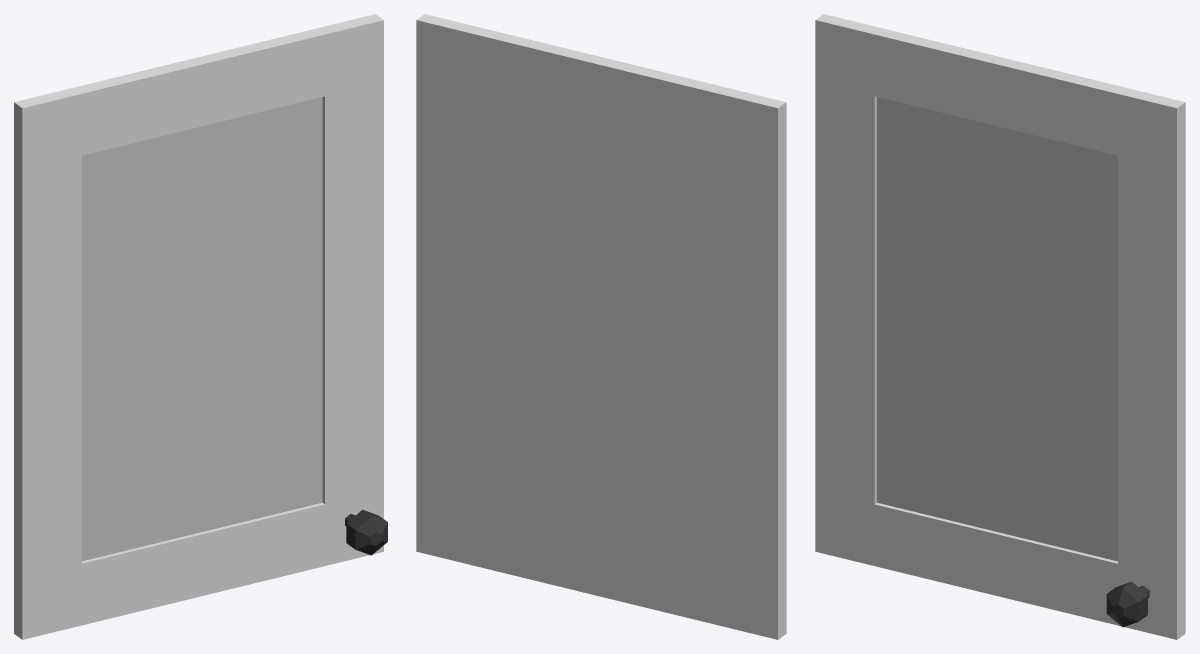
The model's file is Wardrobe7_C1_05.fbx.
The picture shows the model from 3 angles, left to right: view 1: azimuth 30°, elevation 25°; view 2: azimuth 150°, elevation 25°; view 3: azimuth 330°, elevation 25°; orthographic projection.
Parts seen in each view (by area): view 1: Wardrobe7_C1_05; view 2: Wardrobe7_C1_05; view 3: Wardrobe7_C1_05.
Part boxes in pixels (x1,y1,x2,y2): Wardrobe7_C1_05: (14, 14, 387, 639); Wardrobe7_C1_05: (416, 14, 786, 639); Wardrobe7_C1_05: (815, 14, 1185, 639).
Bounding box in the file's own units: 50 × 70.23 × 8.1.
